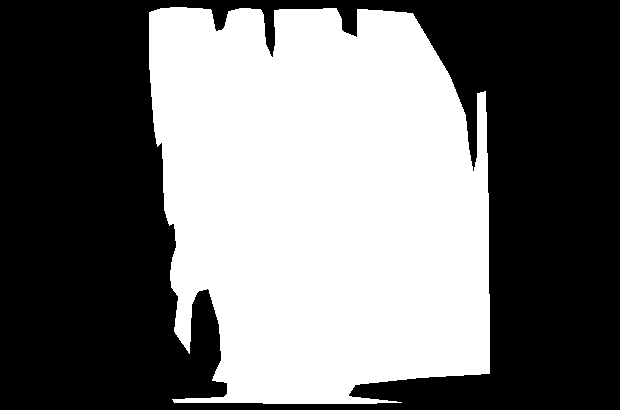type2: (137, 6, 491, 405)
